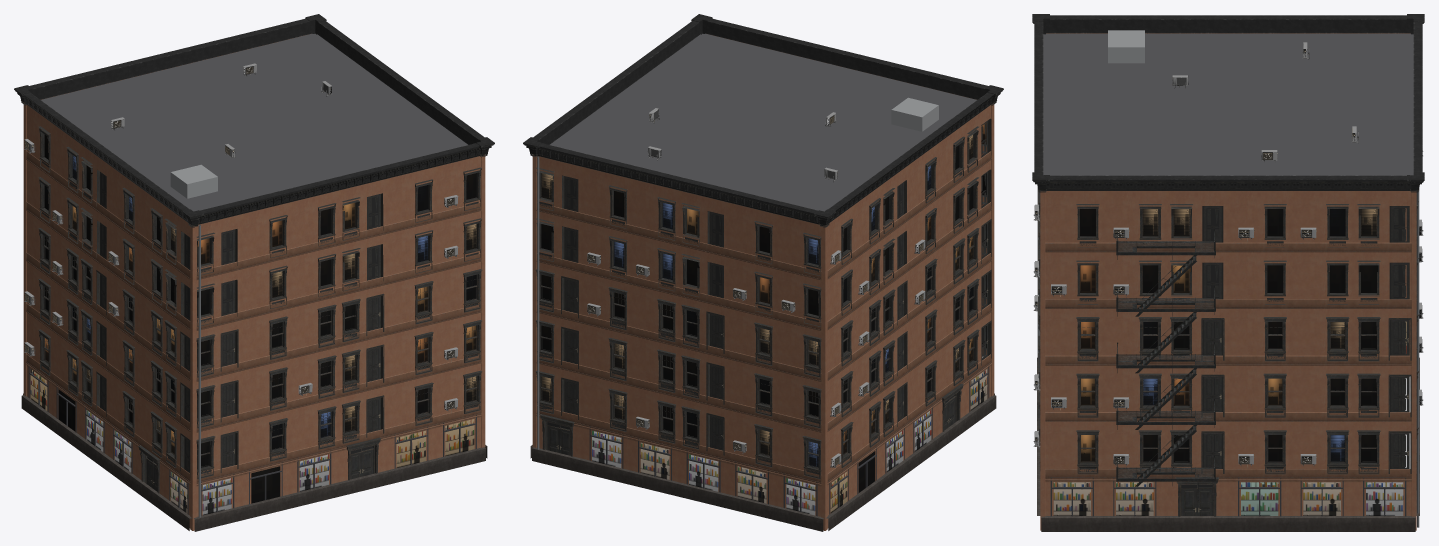
Rendered from apt_a.gltf.
The picture shows the model from 3 angles, left to right: view 1: azimuth 30°, elevation 25°; view 2: azimuth 150°, elevation 25°; view 3: azimuth 270°, elevation 25°; orthographic projection. The views are drawn at different scales.
Parts seen in each view (by area): view 1: apt_a; view 2: apt_a; view 3: apt_a.
Boxes of the visible parts, x1,y1,x2,y2 form: apt_a: [14, 14, 494, 531]; apt_a: [523, 14, 1003, 531]; apt_a: [1032, 14, 1424, 531].
Bounding box in the file's own units: 19.84 × 18.81 × 18.85.
Materials: 15 (10 with a texture image).
